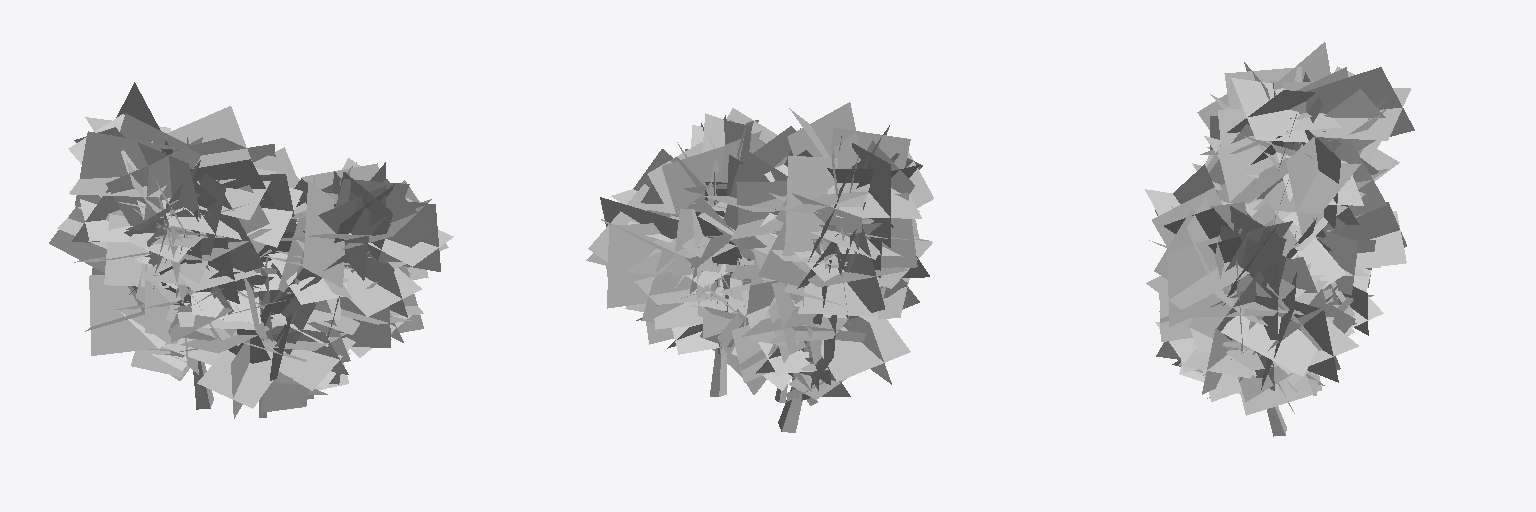
File: bush06.obj
3 renders of one model, left to right at view 1: azimuth 30°, elevation 25°; view 2: azimuth 150°, elevation 25°; view 3: azimuth 270°, elevation 25°, orthographic.
Visible parts, largest first — view 1: bush06; view 2: bush06; view 3: bush06.
Boxes of the visible parts, x1=… form: bush06: x1=49, y1=82, x2=453, y2=418; bush06: x1=586, y1=102, x2=933, y2=432; bush06: x1=1145, y1=42, x2=1414, y2=436.
Size of the model in its own units: 1.96 by 1.69 by 1.34.